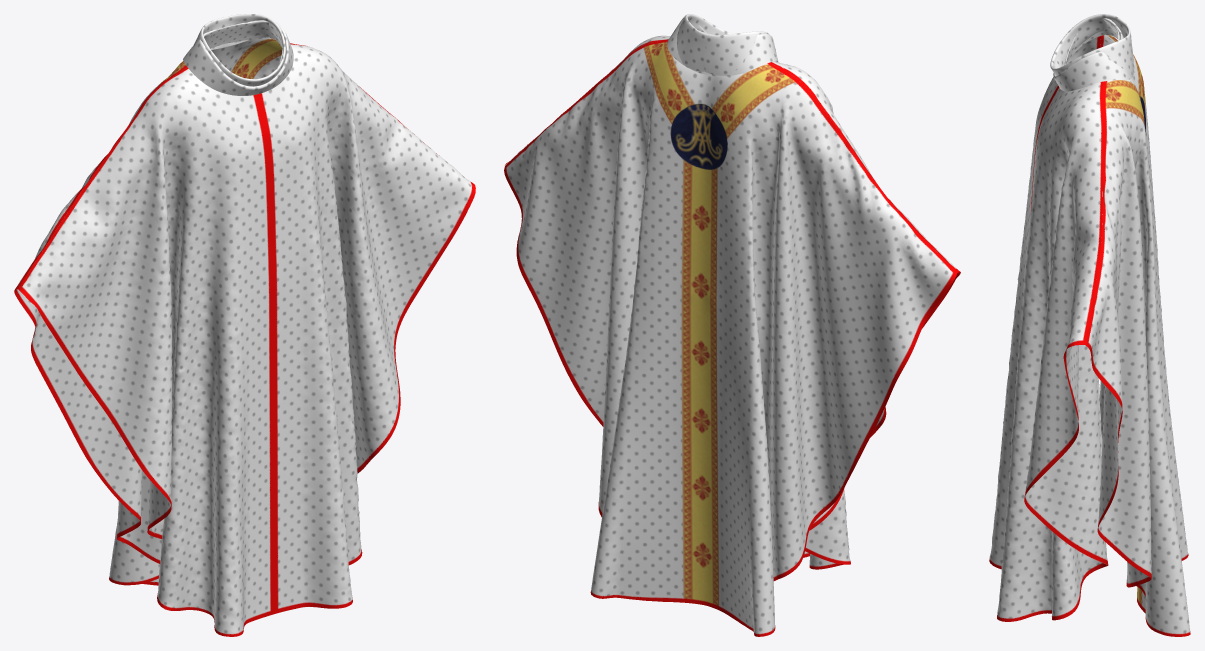
File: ghotic.glb
3 renders of one model, left to right at view 1: azimuth 30°, elevation 25°; view 2: azimuth 150°, elevation 25°; view 3: azimuth 270°, elevation 25°, orthographic.
Parts seen in each view (by area): view 1: ghotic_1, ghotic_2, collar_4, collar_3, collar_6; view 2: ghotic_2, ghotic_1, collar_3, collar_4; view 3: ghotic_1, ghotic_2, collar_3, collar_4, collar_6.
Boxes of the visible parts, left/top/right/bottom form: ghotic_1: left=18, top=43, right=475, bottom=636; ghotic_2: left=14, top=37, right=294, bottom=585; collar_4: left=183, top=20, right=293, bottom=95; collar_3: left=194, top=14, right=286, bottom=86; collar_6: left=208, top=22, right=282, bottom=63; ghotic_2: left=504, top=40, right=957, bottom=636; ghotic_1: left=505, top=35, right=960, bottom=569; collar_3: left=677, top=14, right=769, bottom=75; collar_4: left=667, top=15, right=778, bottom=76; ghotic_1: left=989, top=36, right=1108, bottom=621; ghotic_2: left=1085, top=34, right=1190, bottom=636; collar_3: left=1050, top=14, right=1133, bottom=77; collar_4: left=1053, top=18, right=1134, bottom=91; collar_6: left=1064, top=22, right=1120, bottom=65.
Size of the model in its own units: 36.45 by 43.74 by 13.94.
Materials: 3 (3 with a texture image).
